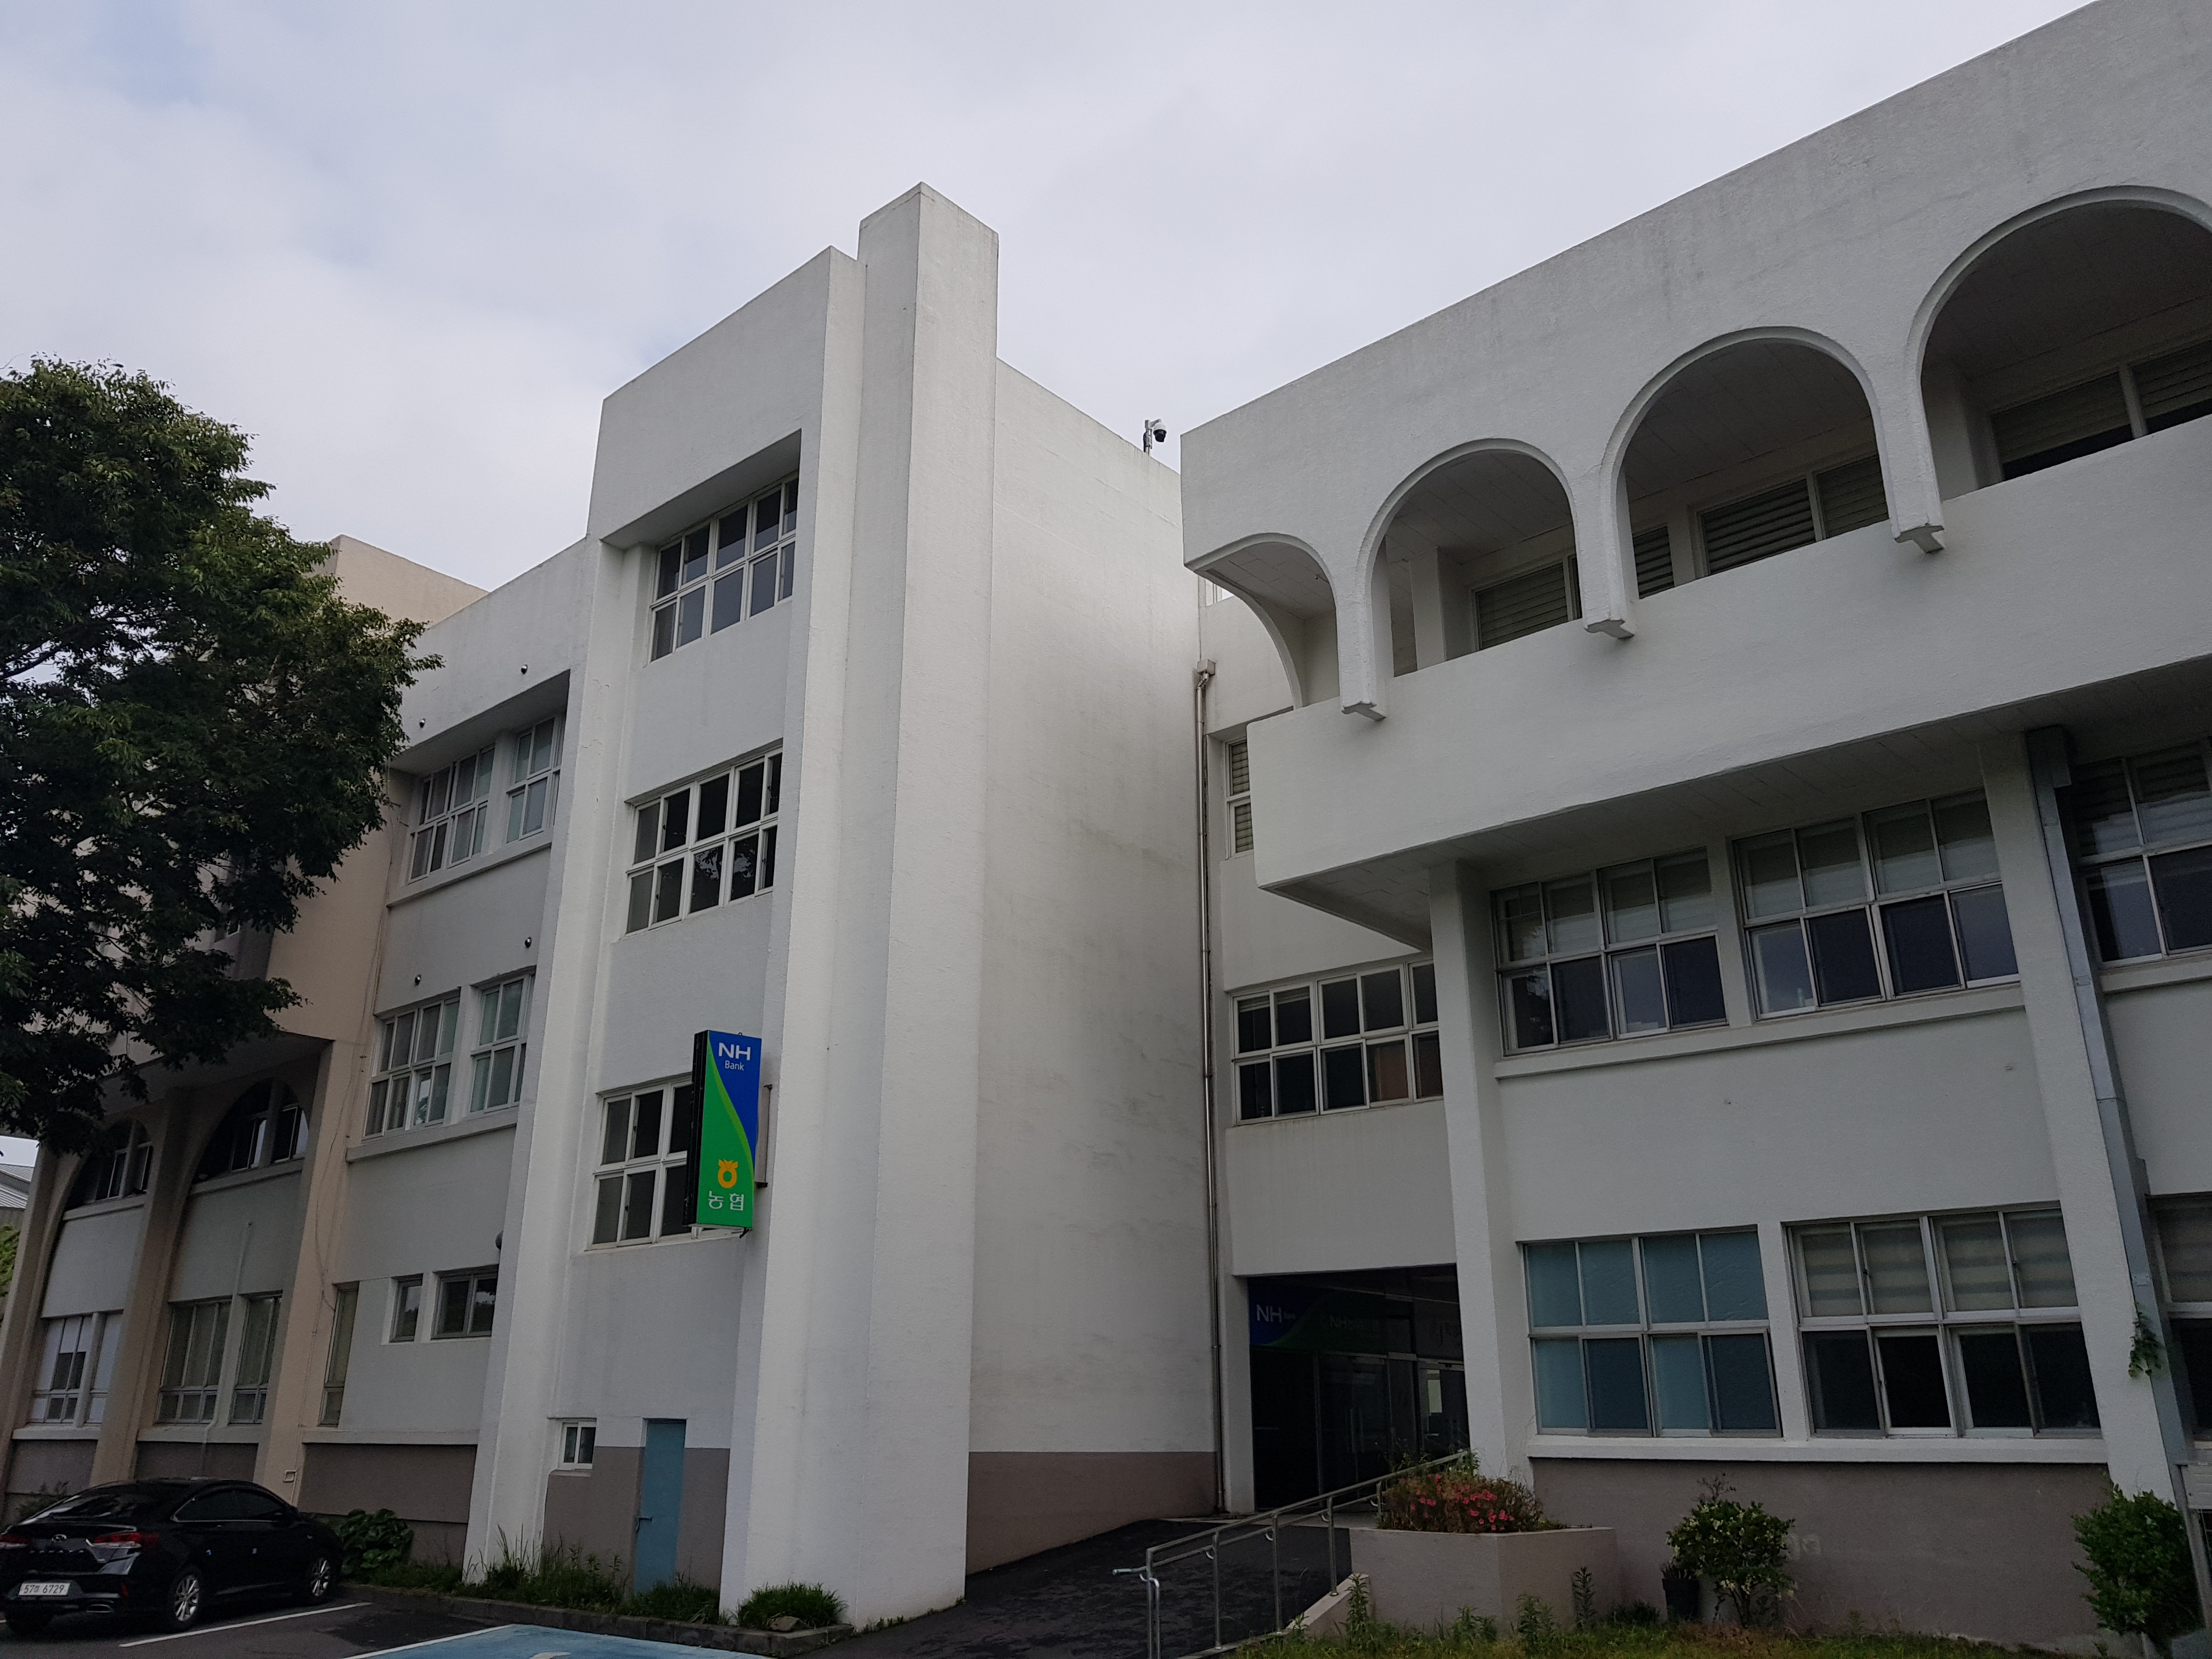Main Building of University: (26, 28, 2182, 1464), (693, 999, 763, 1239)
